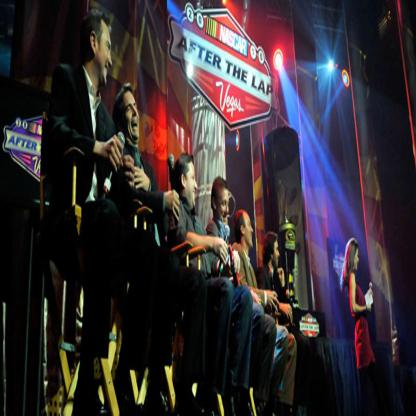face: (99, 26, 114, 85), (124, 95, 140, 140), (187, 164, 199, 207), (219, 193, 229, 226), (245, 213, 254, 247), (274, 243, 280, 269), (278, 267, 285, 287), (354, 250, 359, 270)
